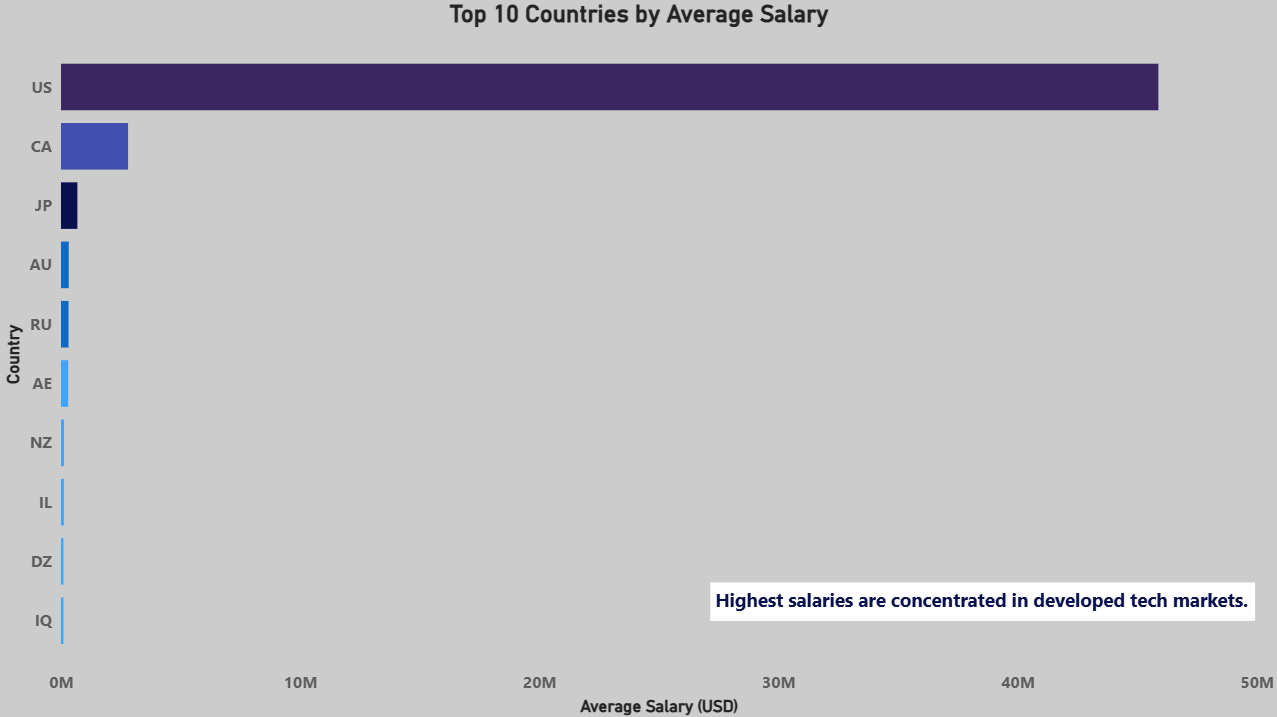

Layout of this report page (visuals, bound fields, positions):
{"tool":"powerbi","page":{"name":"Global Salary Overview","canvas":[1280,720],"ordinal":0},"visuals":[{"type":"clusteredBarChart","title":"Top 10 Countries by Average Salary","fields":{"Category":["jobs_cleaned.company_country"],"Y":["Sum(jobs_cleaned.salary_usd)"]},"box":[0,0,1280,720],"z":0},{"type":"textbox","box":[711.2,582.5,545,38.8],"z":1}]}

Visuals, with their boxes in screenshot pixels (x1, y1, x2, y2), scaled from the page's 1280x720 canvas onto the 1277x717 screenshot:
"Top 10 Countries by Average Salary" clusteredBarChart: pyautogui.locateOnScreen(0, 0, 1276, 716)
textbox: pyautogui.locateOnScreen(710, 580, 1253, 619)
